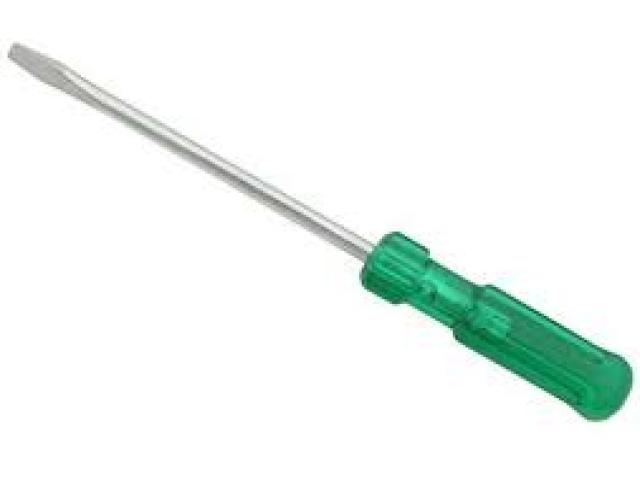Screwdriver: (10, 47, 631, 419)
